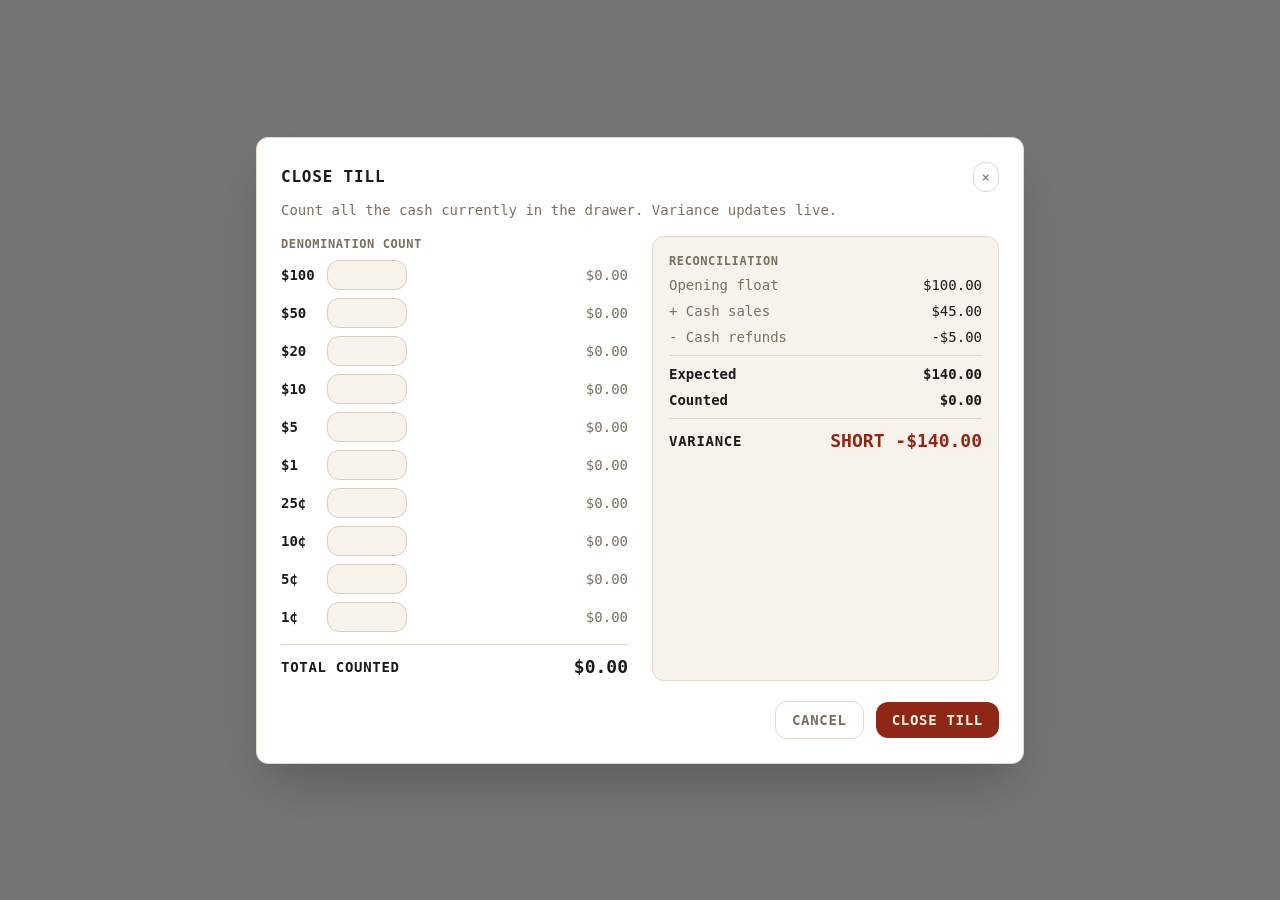
Test: <CloseTillModal> › shows OVER and signed variance when counted > expected
Expected: the text "$140.00" is shown, [923,364,982,384]
Type "2" into the number field named "Count of $100".
click(367, 274); type("2")  # box [327,260,407,290]
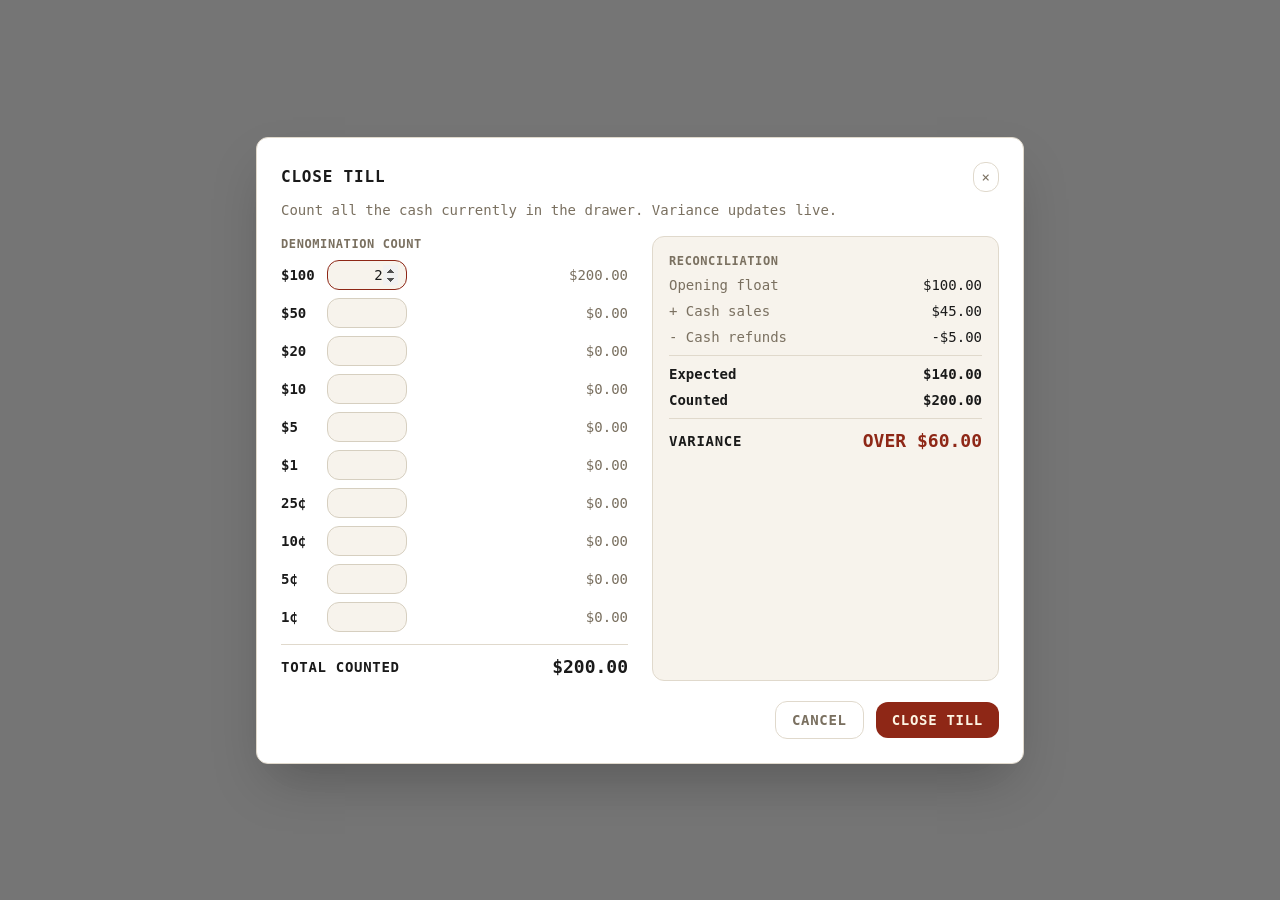
Expected: the text with test id "close-till-variance" reads "OVER $60.00", [863,430,982,450]
